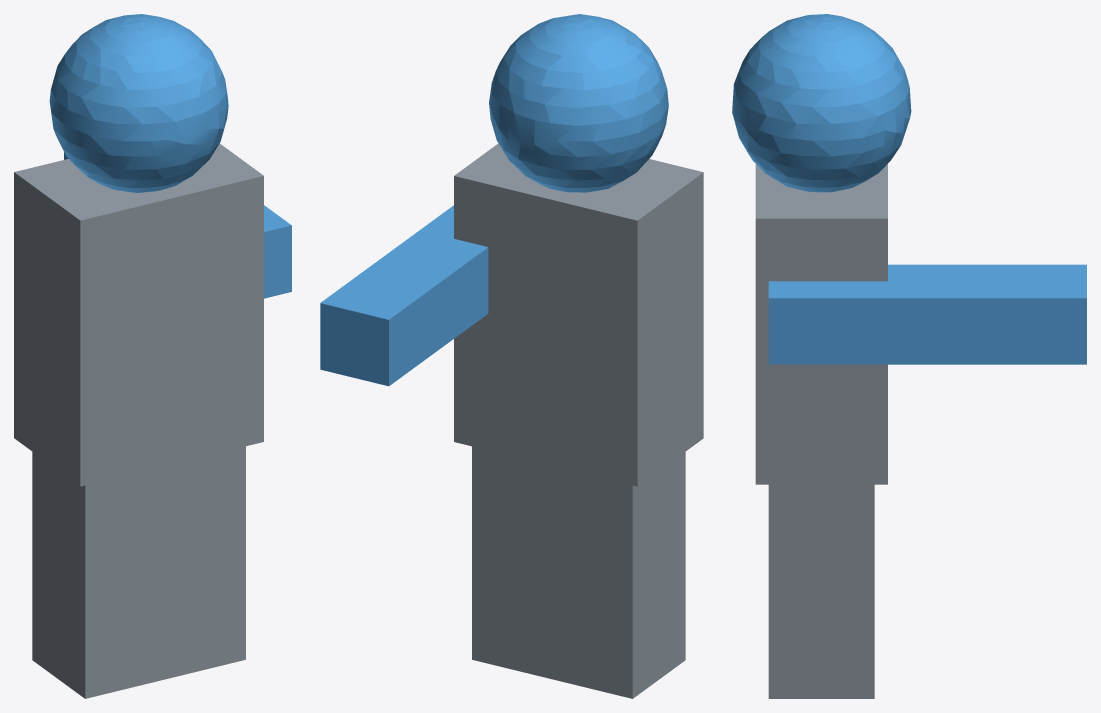
The model's file is AL_FrostlineSpecialist_LOD1.glb.
3 views of the same model, side by side, from view 1: azimuth 30°, elevation 25°; view 2: azimuth 150°, elevation 25°; view 3: azimuth 270°, elevation 25° (orthographic).
Visible parts, largest first — view 1: Head; view 2: Head; view 3: Head.
Part boxes in pixels (box(x1,y1,x2,y2)): Head: box(14, 14, 291, 698); Head: box(320, 14, 703, 698); Head: box(732, 14, 1086, 698).
Size of the model in its own units: 61.75 by 172 by 86.99.
